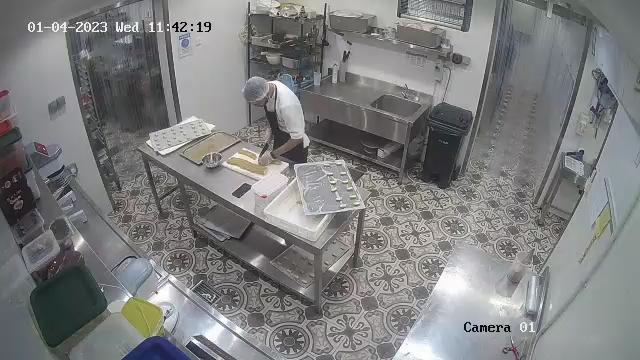apron: (265, 86, 304, 162)
